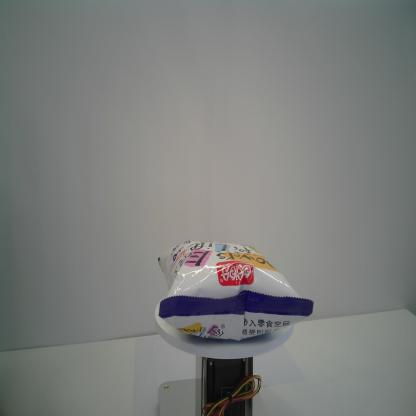Puffed Food: (155, 237, 314, 341)
